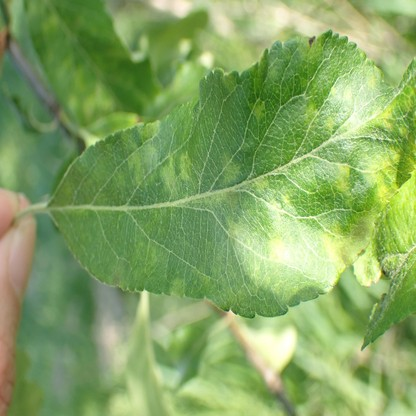scab: (200, 249, 298, 312), (322, 213, 373, 269), (122, 133, 140, 184), (133, 242, 157, 269), (141, 143, 157, 183), (226, 218, 250, 244), (298, 35, 321, 60), (161, 155, 175, 189), (223, 155, 239, 184), (203, 193, 238, 205), (268, 238, 285, 260), (335, 165, 349, 191), (222, 75, 237, 94), (108, 272, 125, 288), (142, 121, 160, 136), (170, 277, 184, 295), (249, 178, 267, 192), (181, 155, 191, 179), (375, 184, 388, 202), (306, 106, 318, 123), (254, 102, 264, 120), (368, 76, 376, 93), (271, 199, 282, 211), (325, 118, 334, 131), (344, 89, 350, 102), (331, 87, 337, 97)
